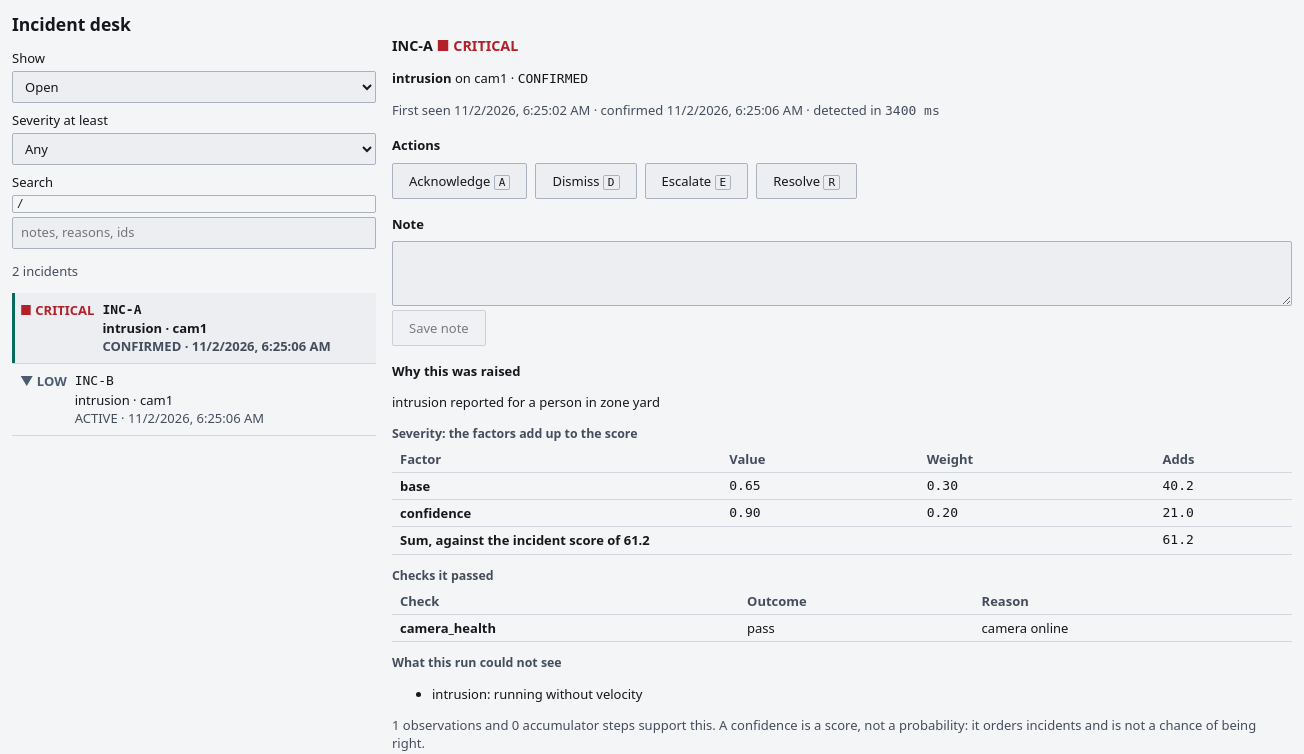
it: the detail › shows the error and keeps the prompt when an action is refused
Expected: the heading "INC-A ■ CRITICAL" is shown, [392,36,518,55]
Type keys "e"
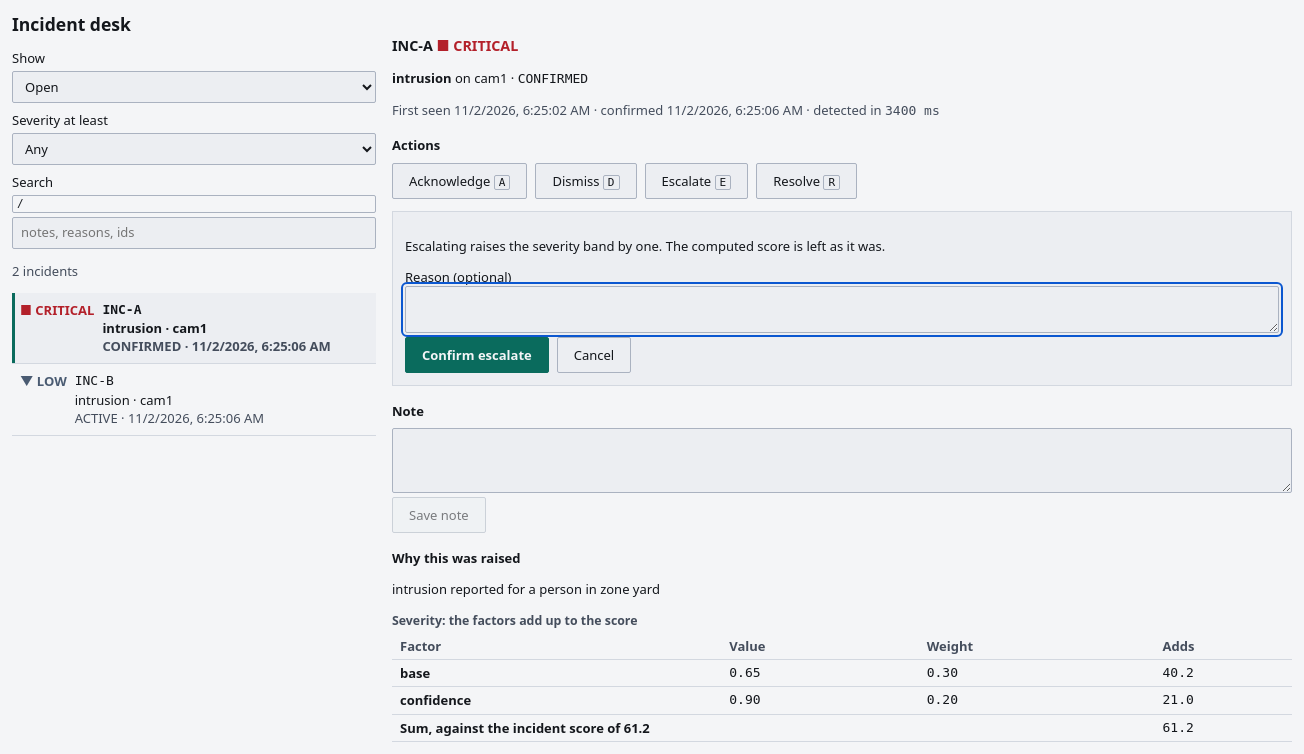
Click the button "Confirm escalate": (477, 355) [405,337,549,373]
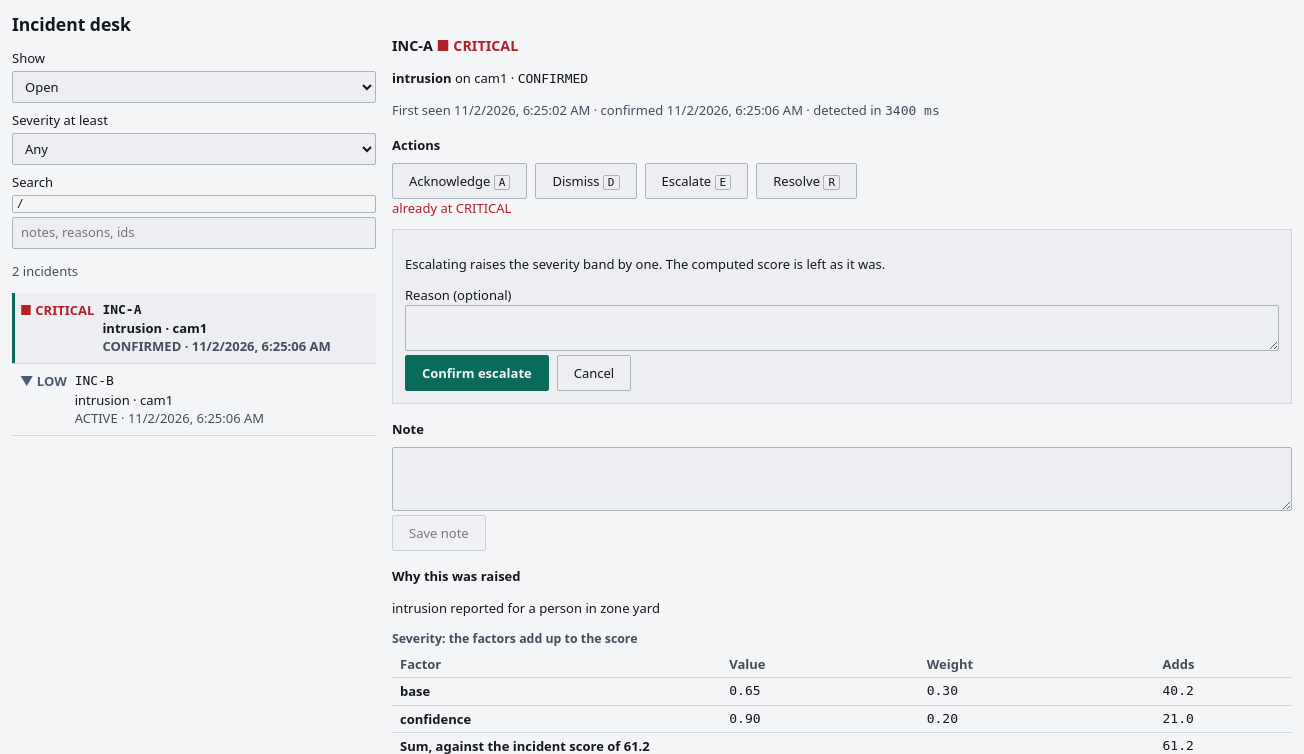
Result: the message "already at CRITICAL" is shown at [392,199,511,217]
